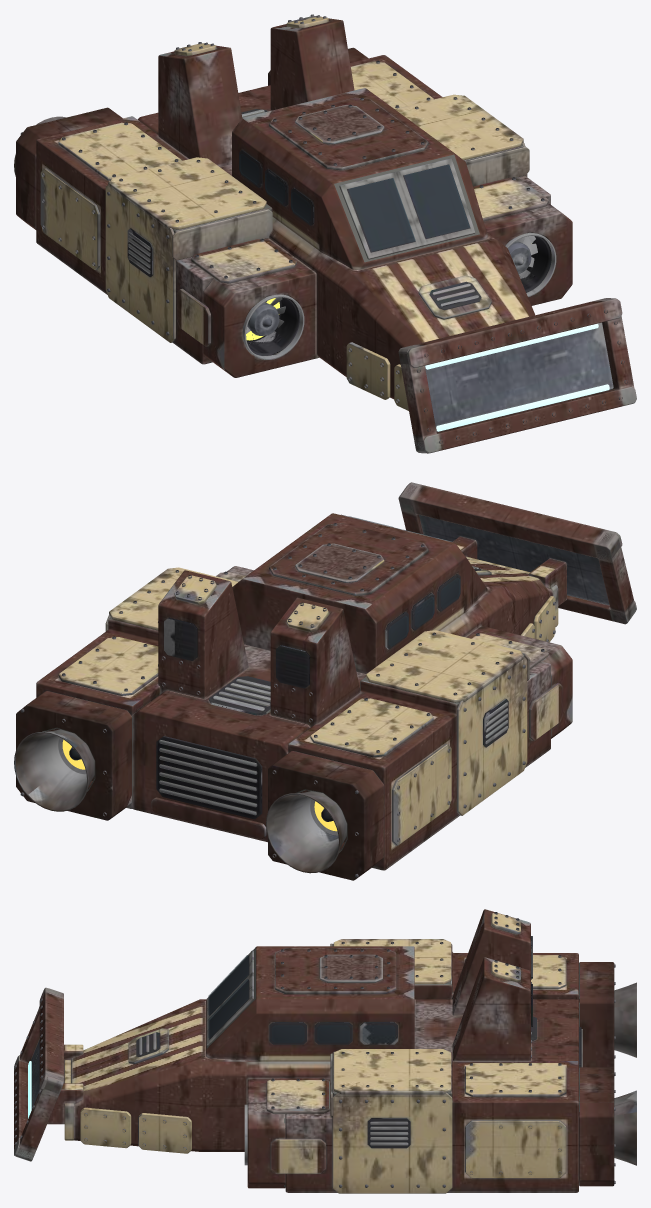
The model's file is kodiak.glb.
3 renders of one model, top to bottom at view 1: azimuth 30°, elevation 25°; view 2: azimuth 150°, elevation 25°; view 3: azimuth 270°, elevation 25°, orthographic. The views are drawn at different scales.
Parts seen in each view (by area): view 1: kodiak_body, kodiak_glass, kodiak_emissive; view 2: kodiak_body, kodiak_glass; view 3: kodiak_body, kodiak_glass.
Boxes of the visible parts, bbox=[...] form: kodiak_body: bbox=[14, 14, 636, 453]; kodiak_glass: bbox=[239, 154, 469, 251]; kodiak_emissive: bbox=[246, 298, 609, 431]; kodiak_body: bbox=[14, 482, 636, 880]; kodiak_glass: bbox=[349, 516, 460, 646]; kodiak_body: bbox=[14, 909, 636, 1193]; kodiak_glass: bbox=[208, 955, 395, 1042].
Size of the model in its own units: 2.87 by 1.55 by 4.93.
6 materials, 2 textured.
